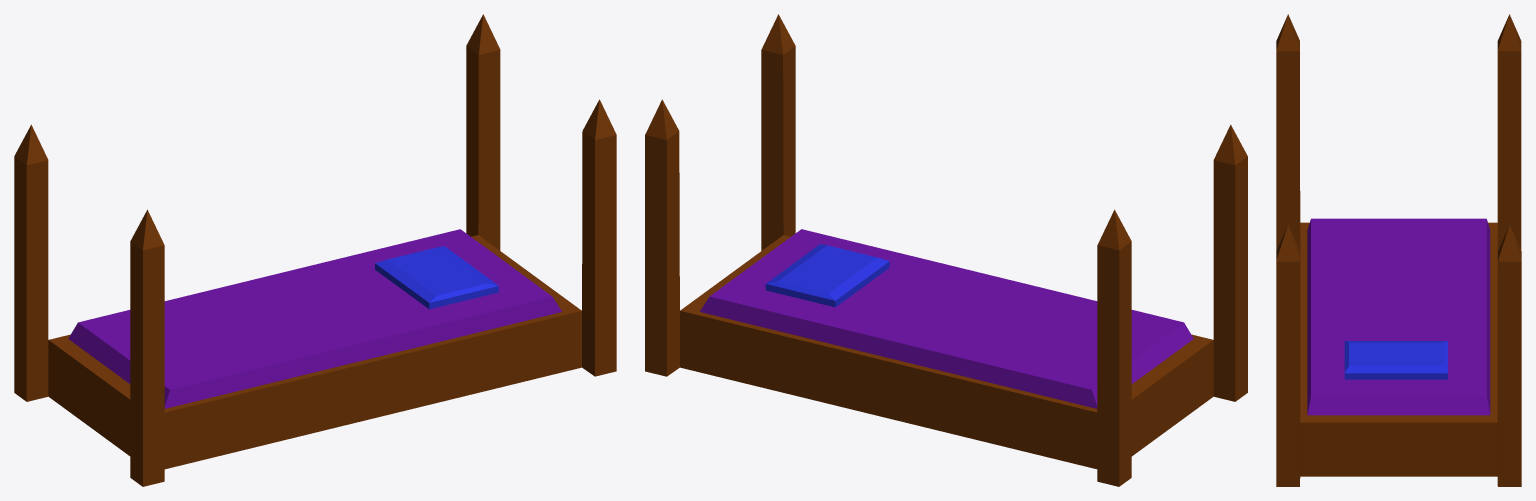
File: Bed.fbx
The picture shows the model from 3 angles, left to right: view 1: azimuth 30°, elevation 25°; view 2: azimuth 150°, elevation 25°; view 3: azimuth 270°, elevation 25°; orthographic projection. The views are drawn at different scales.
Parts seen in each view (by area): view 1: Cube.001; view 2: Cube.001; view 3: Cube.001.
Part boxes in pixels (x1,y1,x2,y2): Cube.001: [14, 14, 616, 486]; Cube.001: [645, 14, 1247, 486]; Cube.001: [1276, 14, 1521, 486].
Size of the model in its own units: 168 by 78.87 by 91.34.
